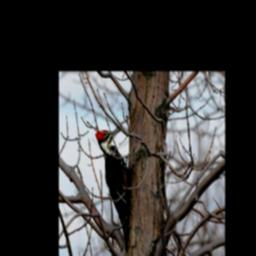Woodpecker: (94, 125, 134, 256)
